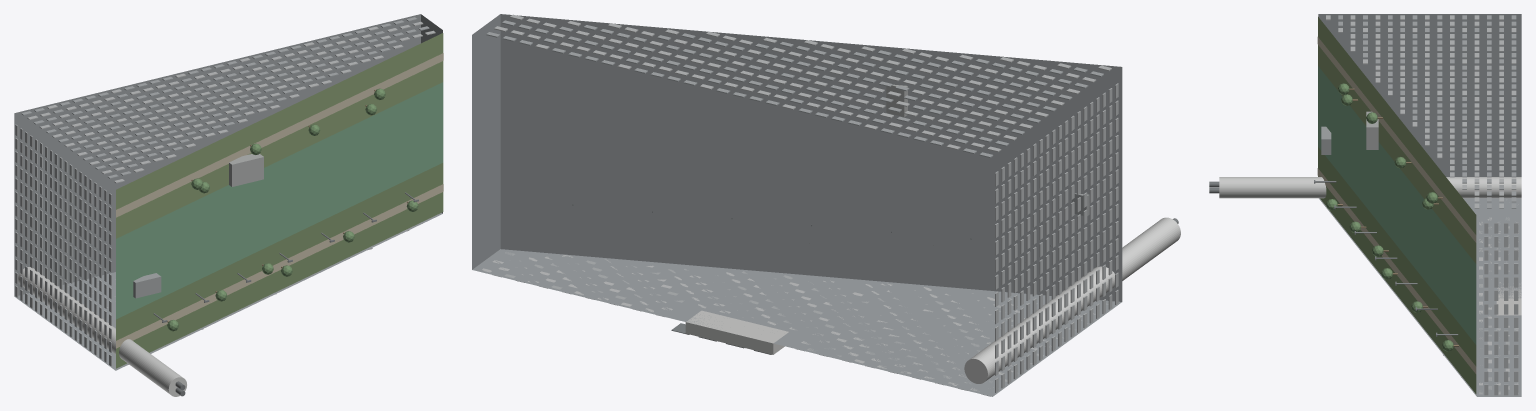
The model's file is copenhill_visual_proxy.glb.
3 renders of one model, left to right at view 1: azimuth 30°, elevation 25°; view 2: azimuth 150°, elevation 25°; view 3: azimuth 270°, elevation 25°, orthographic. The views are drawn at different scales.
Visible parts, largest first — view 1: main_wedge, ski_slope, roof_landscape_left, roof_landscape_right, chimney, roof_path_far, roof_path_ccp, roof_technical_volume, lift_terminal; view 2: main_wedge, chimney, service_block; view 3: main_wedge, ski_slope, roof_landscape_right, roof_landscape_left, chimney, roof_path_far, roof_path_ccp, service_block, roof_technical_volume, lift_terminal.
Part boxes in pixels (bbox=[...]): main_wedge: bbox=[14, 14, 442, 370]; ski_slope: bbox=[116, 82, 443, 319]; roof_landscape_left: bbox=[116, 163, 443, 368]; roof_landscape_right: bbox=[116, 33, 443, 238]; chimney: bbox=[18, 267, 186, 396]; roof_path_far: bbox=[116, 53, 443, 217]; roof_path_ccp: bbox=[116, 184, 443, 348]; roof_technical_volume: bbox=[229, 153, 263, 186]; lift_terminal: bbox=[133, 273, 161, 298]; main_wedge: bbox=[472, 14, 1122, 396]; chimney: bbox=[964, 217, 1180, 383]; service_block: bbox=[685, 310, 788, 354]; main_wedge: bbox=[1318, 14, 1521, 396]; ski_slope: bbox=[1318, 66, 1476, 344]; roof_landscape_right: bbox=[1318, 17, 1476, 263]; roof_landscape_left: bbox=[1318, 147, 1476, 393]; chimney: bbox=[1219, 177, 1521, 198]; roof_path_far: bbox=[1317, 37, 1476, 242]; roof_path_ccp: bbox=[1317, 168, 1476, 373]; service_block: bbox=[1496, 282, 1521, 315]; roof_technical_volume: bbox=[1366, 111, 1378, 149]; lift_terminal: bbox=[1321, 126, 1331, 154].
Size of the model in its own units: 191 by 86.56 by 126.
